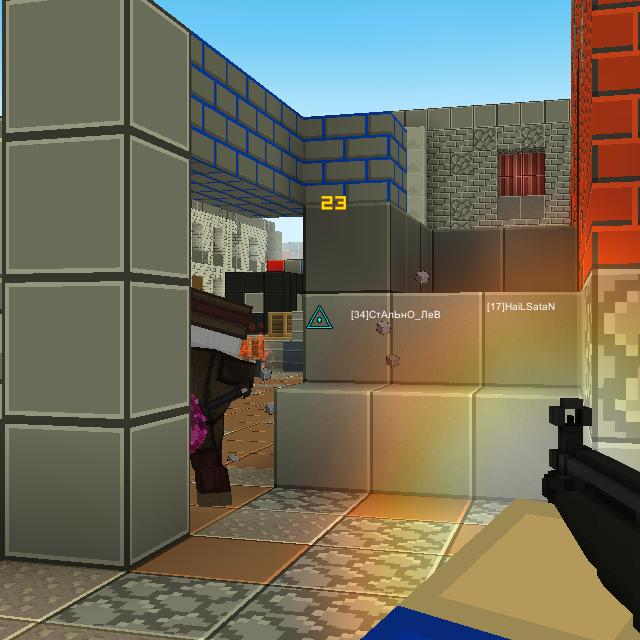enemy: (189, 284, 258, 503)
